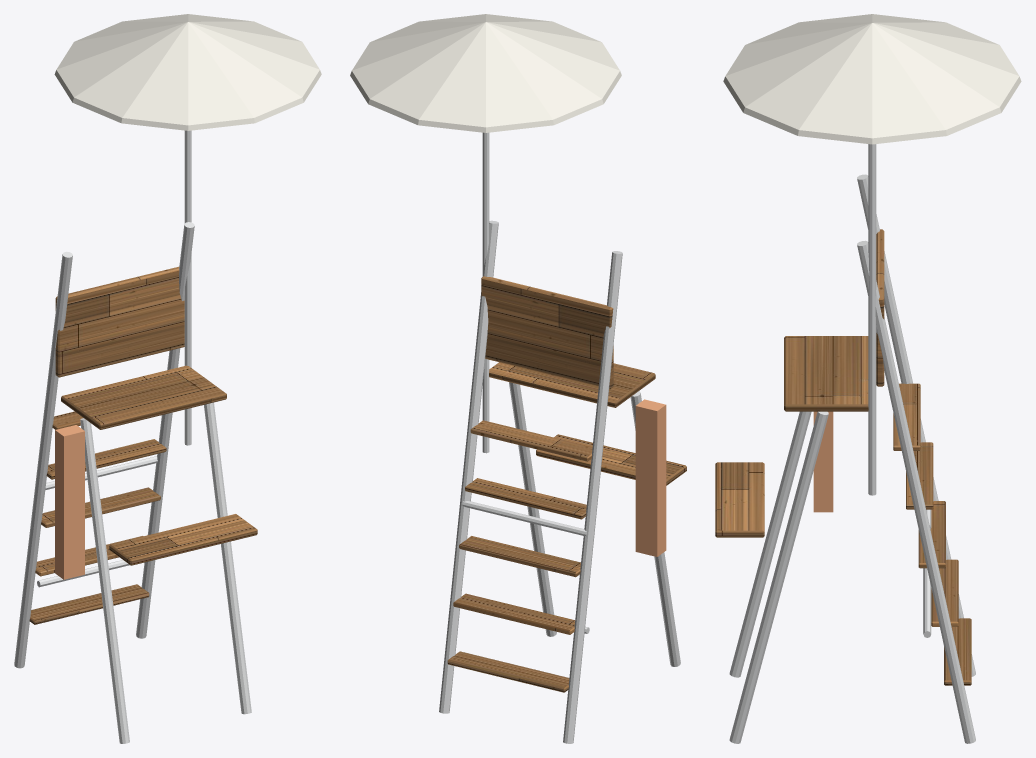
The model's file is guard_chair.glb.
3 views of the same model, side by side, from view 1: azimuth 30°, elevation 25°; view 2: azimuth 150°, elevation 25°; view 3: azimuth 270°, elevation 25° (orthographic). The views are drawn at different scales.
Visible parts, largest first — view 1: guard_chair_wood, guard_chair_canvas, guard_chair_chrome, guard_chair_orange_u; view 2: guard_chair_wood, guard_chair_canvas, guard_chair_chrome, guard_chair_orange_u; view 3: guard_chair_canvas, guard_chair_chrome, guard_chair_wood, guard_chair_orange_u.
Boxes of the visible parts, box(x1,y1,x2,y2) form: guard_chair_wood: box(29, 266, 257, 624); guard_chair_canvas: box(54, 14, 321, 130); guard_chair_chrome: box(14, 130, 251, 743); guard_chair_orange_u: box(55, 425, 84, 579); guard_chair_wood: box(447, 276, 686, 692); guard_chair_canvas: box(350, 14, 621, 132); guard_chair_chrome: box(439, 132, 680, 743); guard_chair_orange_u: box(635, 399, 666, 556); guard_chair_canvas: box(723, 14, 1021, 144); guard_chair_chrome: box(729, 144, 975, 743); guard_chair_wood: box(715, 229, 971, 685); guard_chair_orange_u: box(813, 411, 833, 512).
Size of the model in its own units: 1.75 by 4.06 by 1.56.
4 materials, 1 textured.
